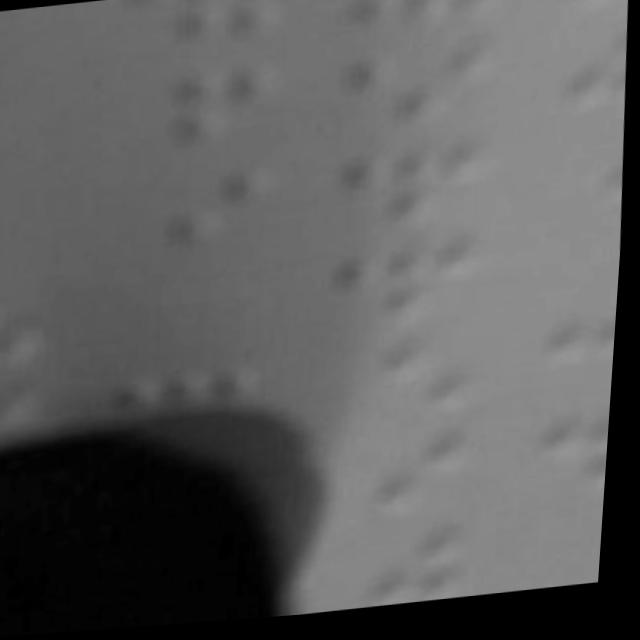braiile: (98, 57, 299, 163), (106, 155, 303, 263), (324, 232, 511, 344), (340, 31, 520, 143), (338, 131, 522, 240), (308, 434, 501, 536), (324, 341, 504, 439), (310, 527, 498, 619), (107, 0, 308, 59), (0, 277, 78, 381), (341, 0, 524, 42)
